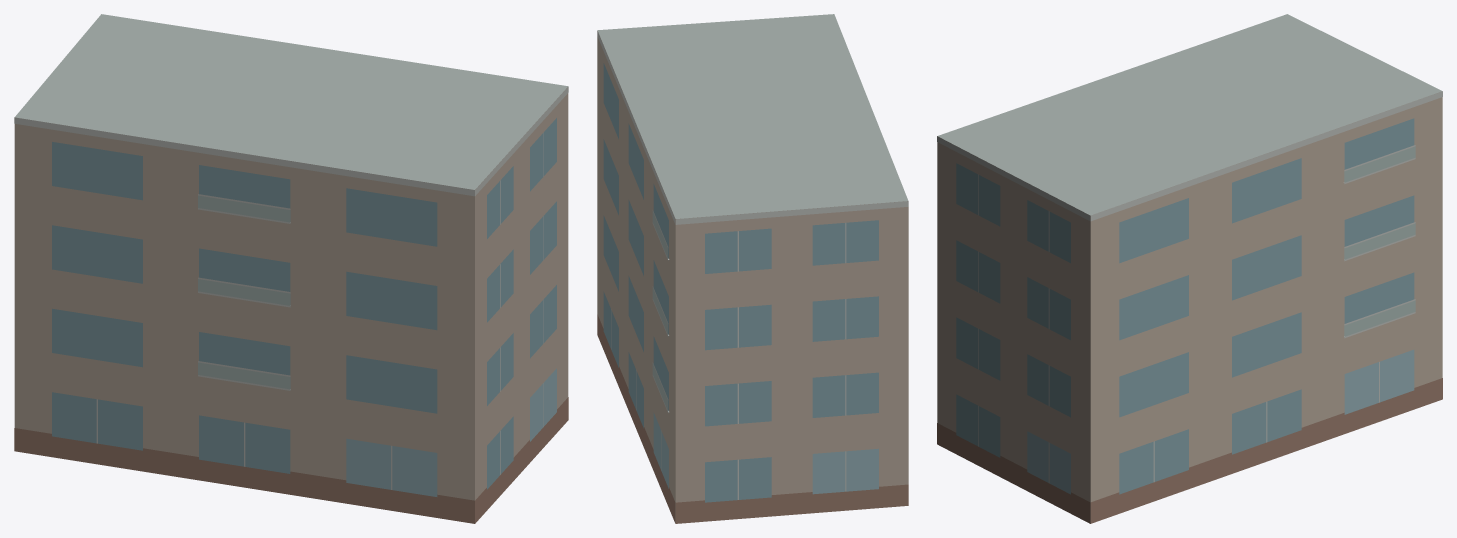
Rendered from survey-upis-32708009.glb.
3 views of the same model, side by side, from view 1: azimuth 30°, elevation 25°; view 2: azimuth 150°, elevation 25°; view 3: azimuth 270°, elevation 25° (orthographic). The views are drawn at different scales.
Parts seen in each view (by area): view 1: survey-upis-32708009.tmp; view 2: survey-upis-32708009.tmp; view 3: survey-upis-32708009.tmp.
Part boxes in pixels (bbox=[...]): survey-upis-32708009.tmp: bbox=[14, 14, 568, 523]; survey-upis-32708009.tmp: bbox=[597, 14, 908, 523]; survey-upis-32708009.tmp: bbox=[937, 14, 1442, 523].
Bounding box in the file's own units: 17.96 × 12.8 × 19.03.
